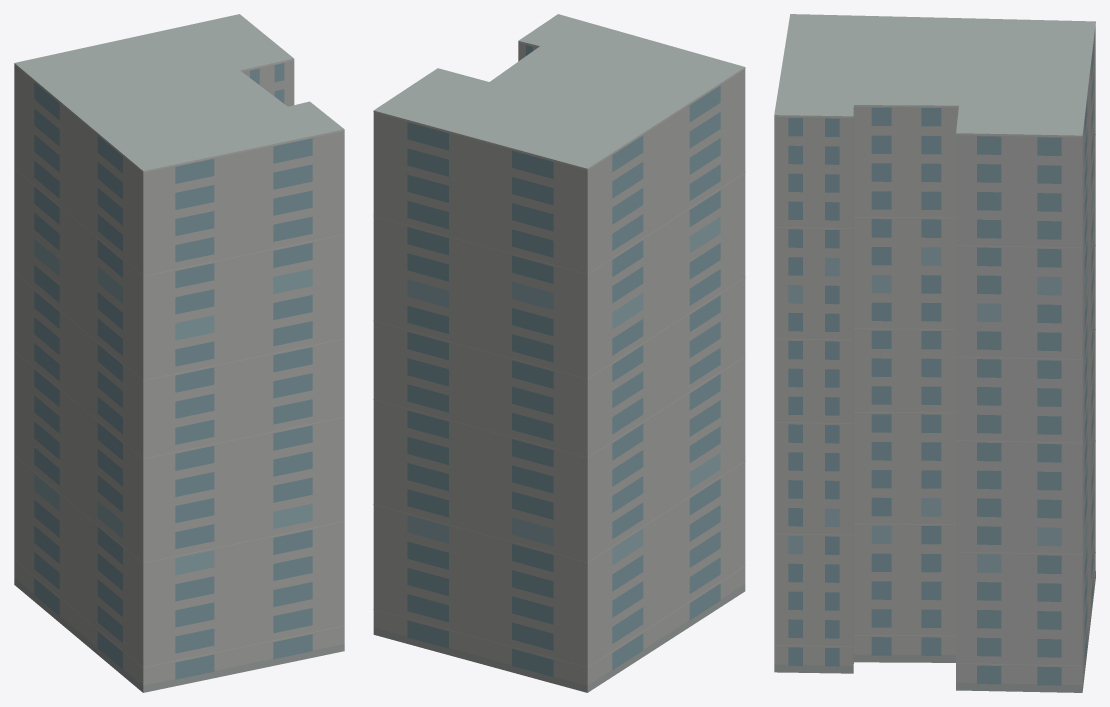
Rendered from survey-upis-32947220.glb.
3 renders of one model, left to right at view 1: azimuth 30°, elevation 25°; view 2: azimuth 150°, elevation 25°; view 3: azimuth 270°, elevation 25°, orthographic. The views are drawn at different scales.
Visible parts, largest first — view 1: survey-upis-32947220.tmp; view 2: survey-upis-32947220.tmp; view 3: survey-upis-32947220.tmp.
Boxes of the visible parts, x1,y1,x2,y2 form: survey-upis-32947220.tmp: (14, 14, 344, 692); survey-upis-32947220.tmp: (373, 14, 745, 692); survey-upis-32947220.tmp: (774, 14, 1095, 692).
Bounding box in the file's own units: 34.66 × 73.99 × 38.72.
